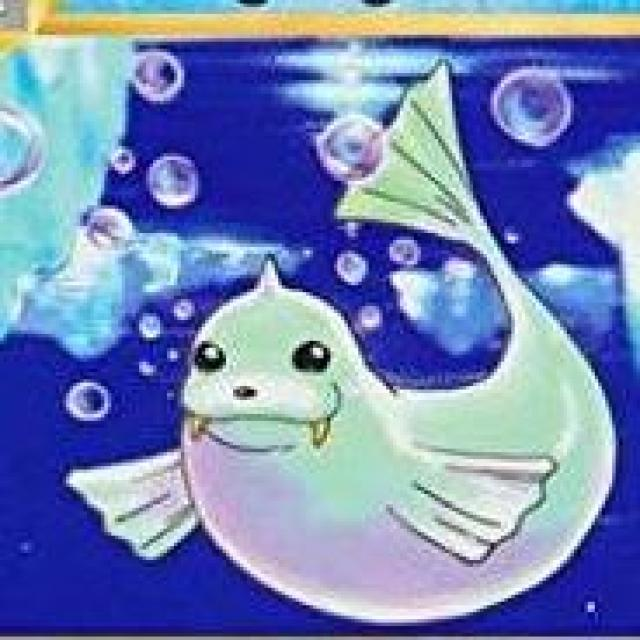Dewgong: (179, 193, 611, 624)
